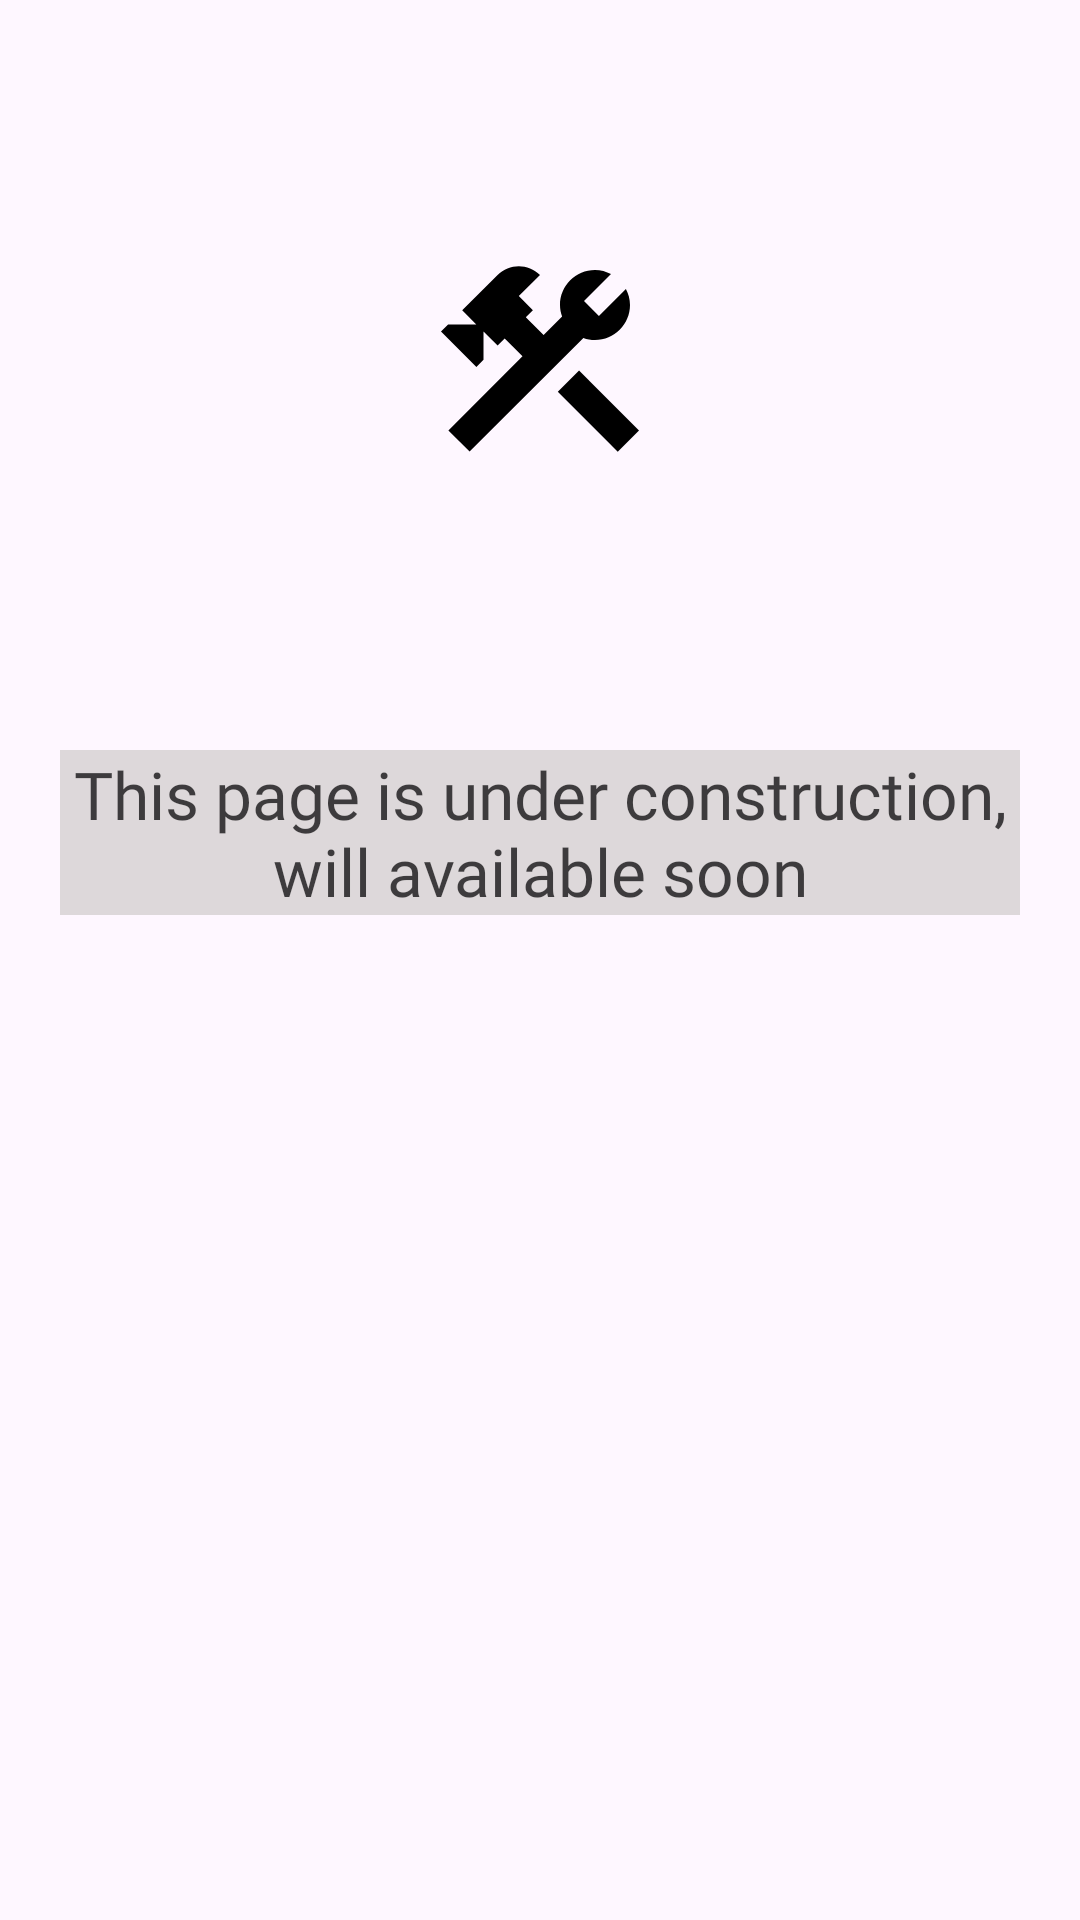

Named icons in this screenshot (1080*1920) and their bounding boxes, bbox=(x1, y1, x2, y2):
construction: bbox=(441, 266, 639, 452)
